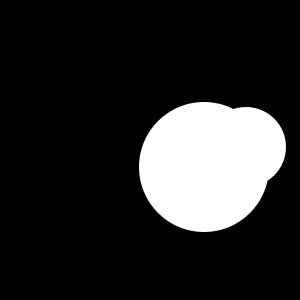rectangle: (139, 102, 269, 232), (206, 107, 286, 187)
